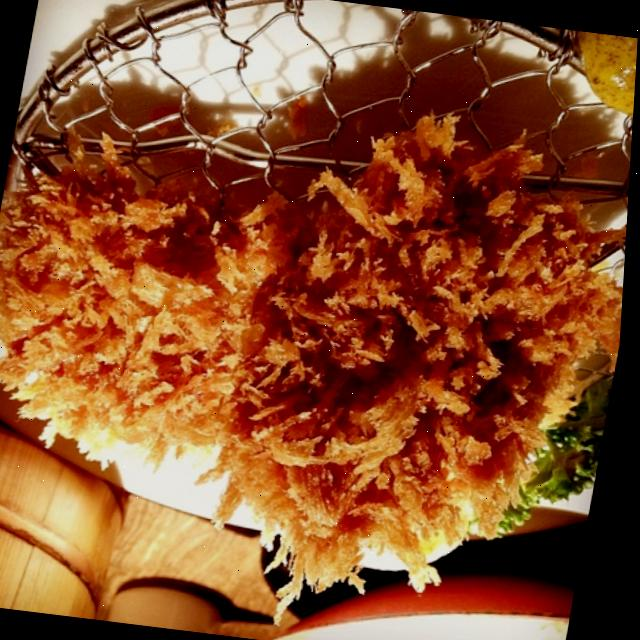牛肉菜式: (0, 67, 622, 628)
